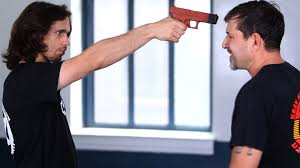pistol: (167, 3, 221, 49)
